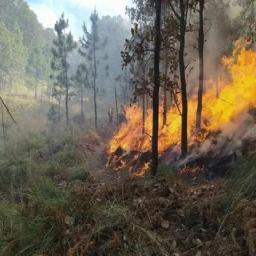Low smoke: (28, 0, 253, 147)
Medium fire: (101, 24, 256, 186)
